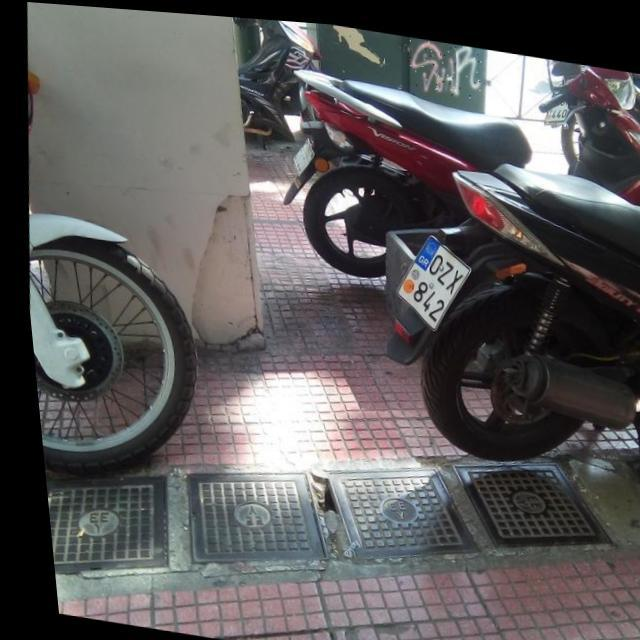-: (404, 30, 459, 92), (451, 36, 486, 94)
